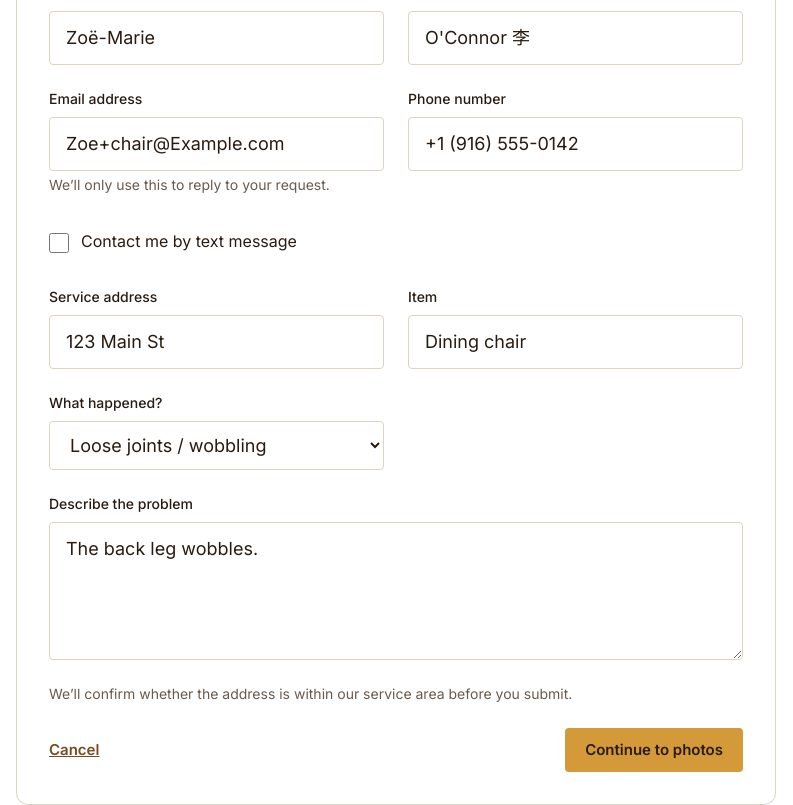
EstimateStep1Form › posts valid details without authentication and continues with parsed data only after server acceptance
(page scrolled)
Click the button "Continue to photos" at (654, 750), box [565, 728, 743, 772]
(page scrolled)
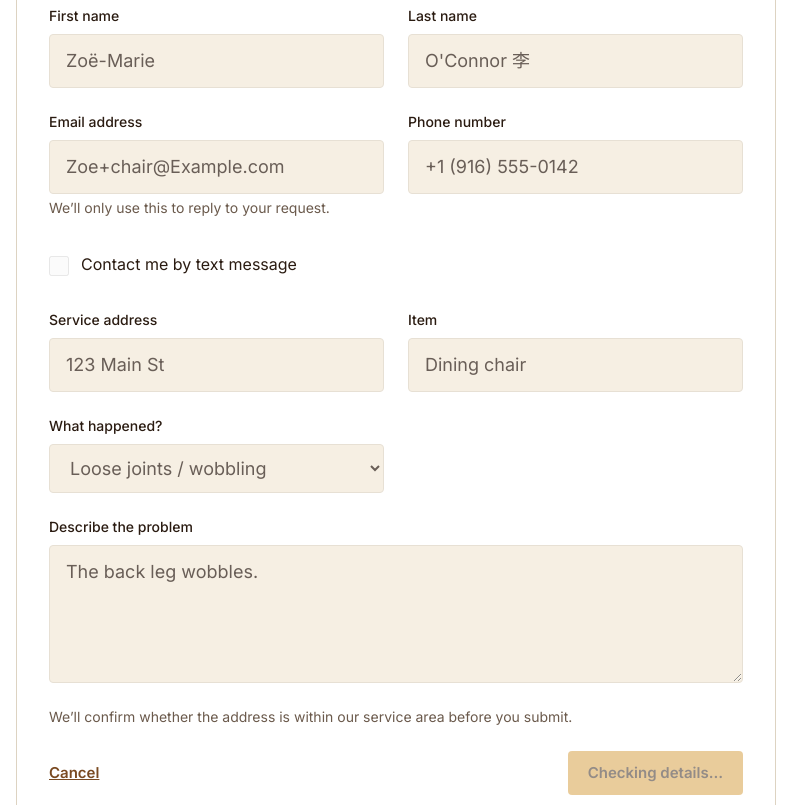
Expected: the field labelled "First name" is disabled, [49, 34, 384, 88]
Now the button "Checking details…" is disabled, box [568, 751, 743, 795]
Submit the form named "Continue to photos"
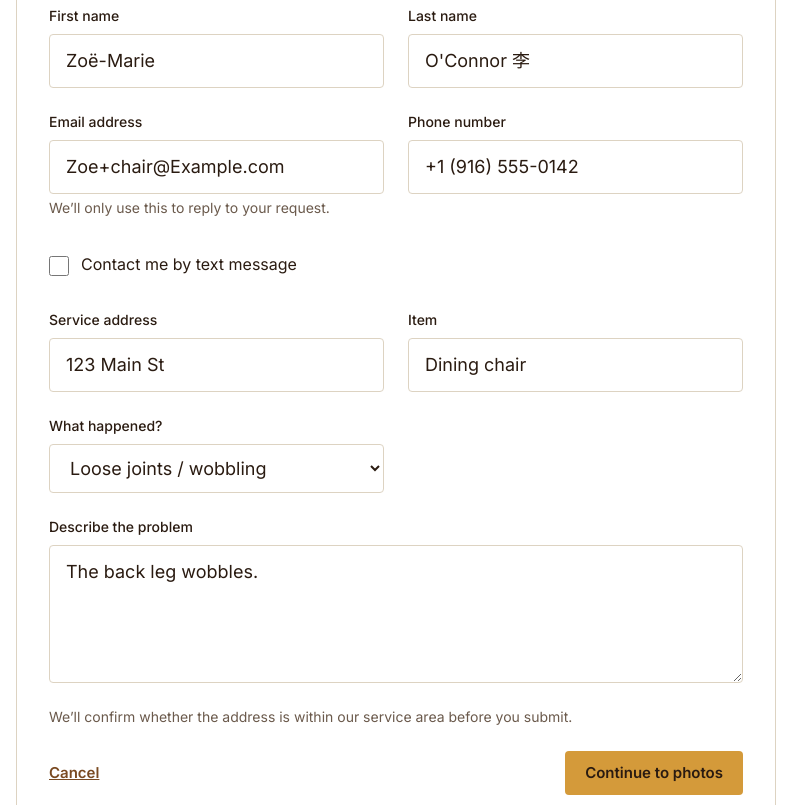
Expected: the field labelled "Email address" holds "Zoe+chair@Example.com", [49, 140, 384, 194]
Now the button "Continue to photos" is enabled, box [565, 751, 743, 795]
